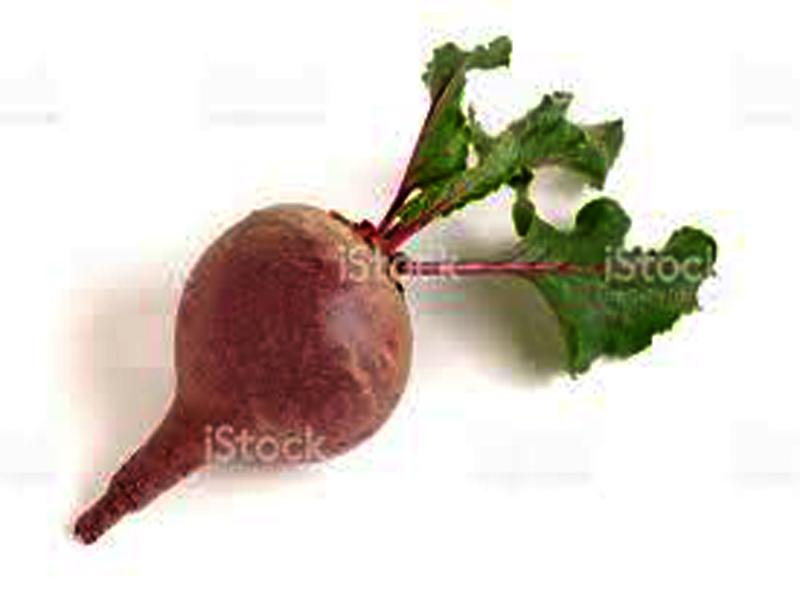Beet: (76, 36, 719, 541)
